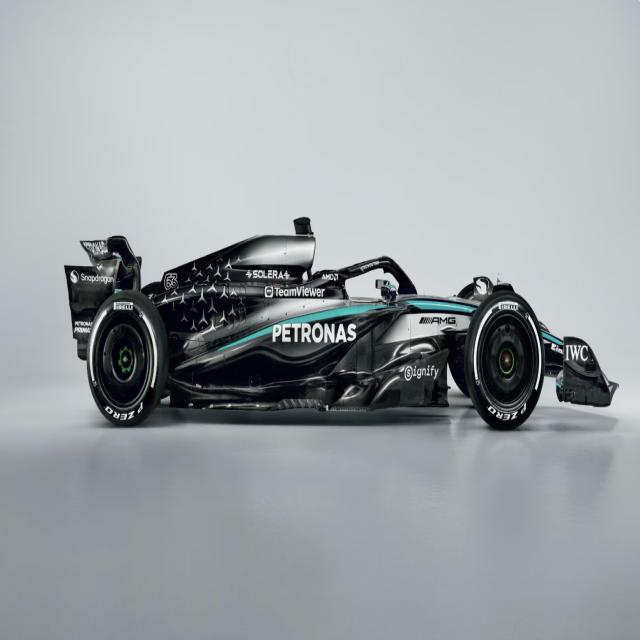Mercedes: (63, 213, 620, 430)
